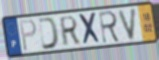D: (37, 16, 60, 51)
P: (19, 19, 38, 53)
R: (98, 9, 122, 45), (59, 15, 81, 48)
V: (117, 7, 139, 42)
X: (77, 11, 103, 47)
